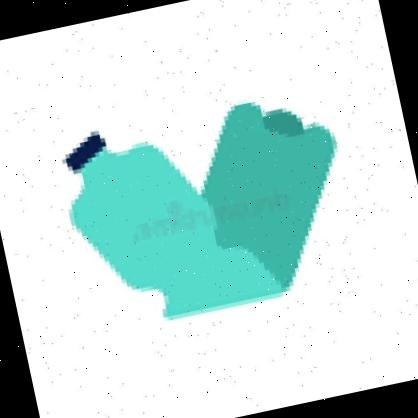bottle: (42, 61, 384, 356)
cap: (57, 126, 111, 177)
